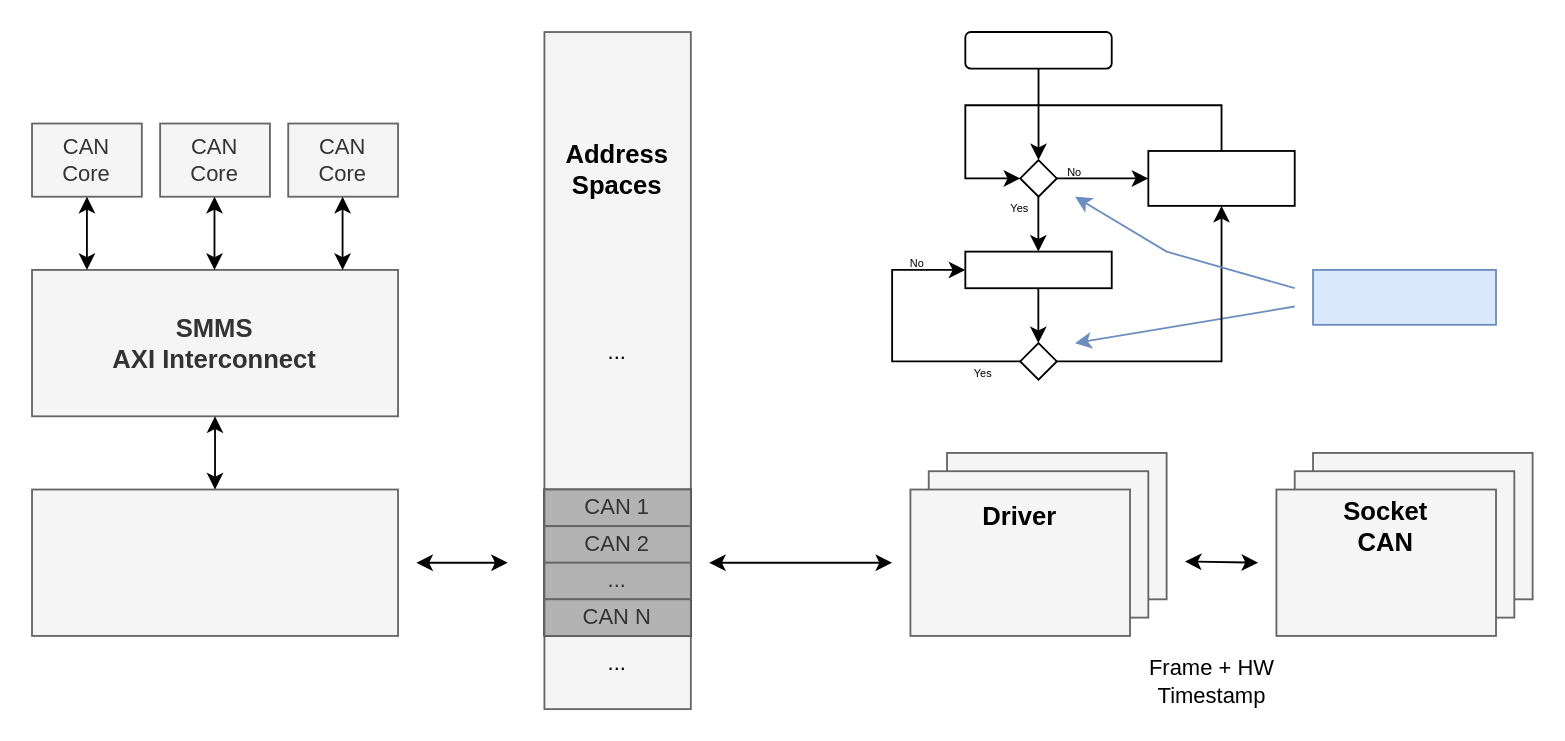
This 1565x741 diagram has some shape labels left out. Each missing label, with the box of its shape:
Framebuffer > 0: (1311, 268, 1496, 325)
Lightweight HPS to FPGA Bridge AXI4-Lite Master: (30, 488, 398, 636)
Read Frame: (963, 250, 1112, 288)
Start: (963, 30, 1112, 69)
Wait Polling Rate: (1146, 149, 1295, 206)
